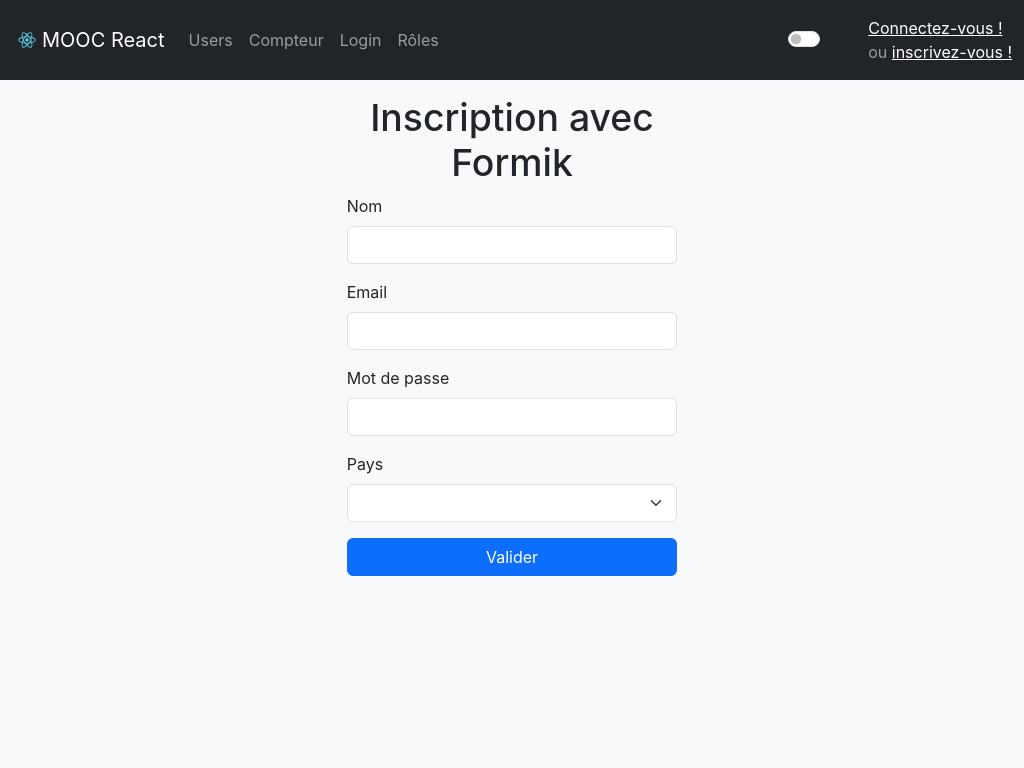
Test: Inscription › devrait afficher une erreur si pays n'est pas séléctionné
Step 1. Select "" in the dropdown with id "country" → {"x": 513, "y": 503}, box left=347, top=484, right=678, bottom=522
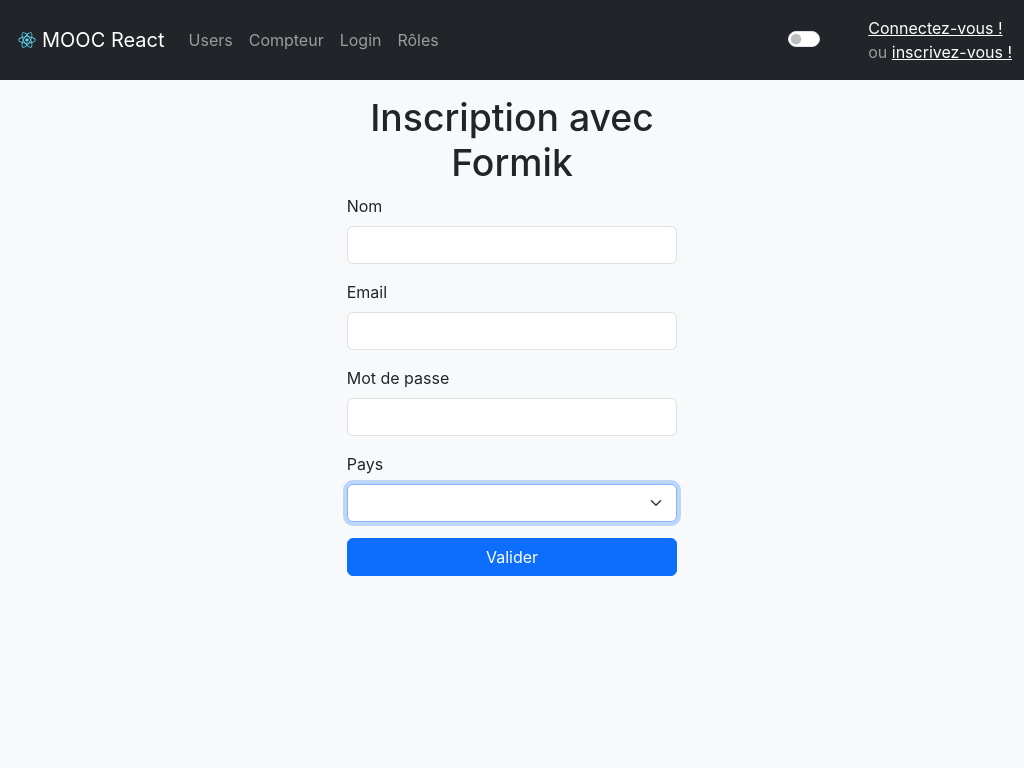
Step 2. Click the submit button → {"x": 513, "y": 557}, box left=347, top=538, right=678, bottom=576
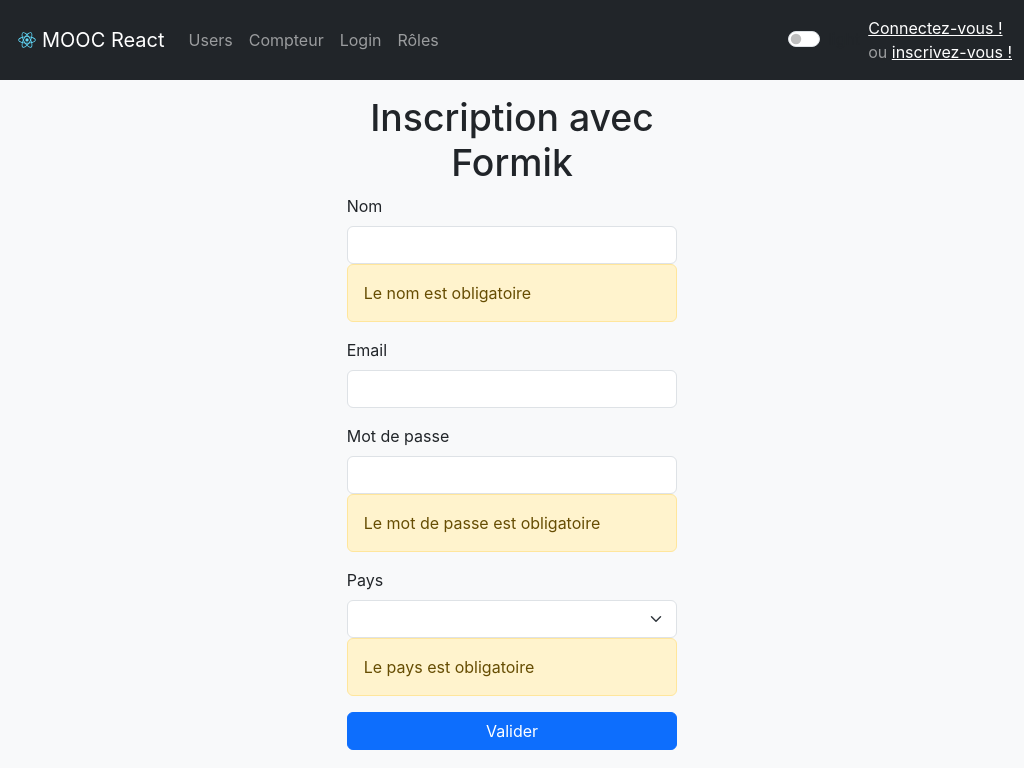
Result: the text with class "country" reads "Le pays est obligatoire" at left=347, top=638, right=678, bottom=696
